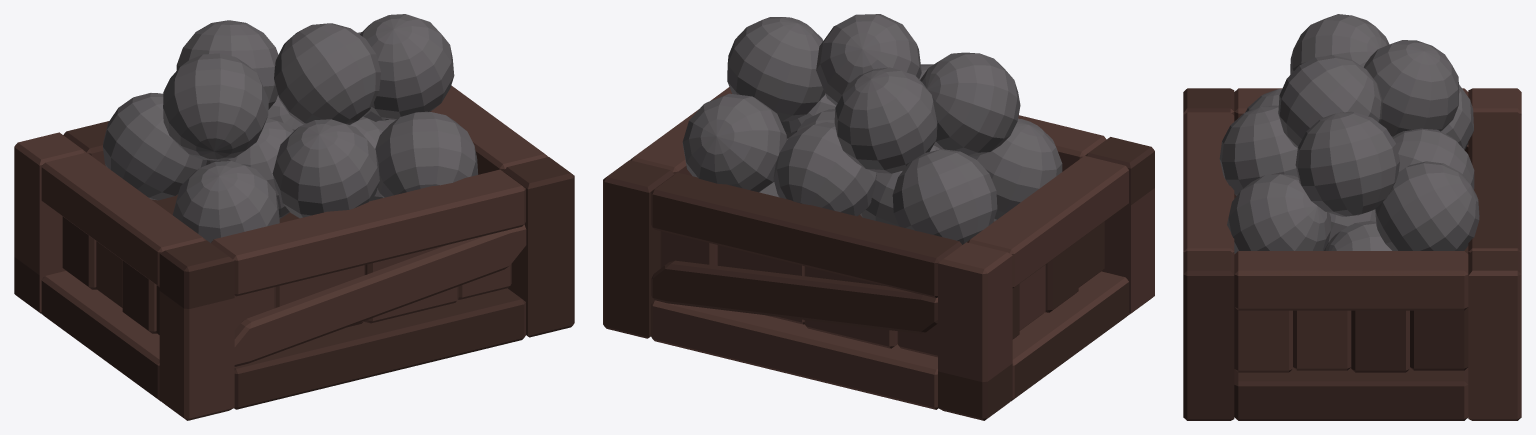
Rendered from BalasDeCanhaoCaixa.fbx.
The picture shows the model from 3 angles, left to right: view 1: azimuth 30°, elevation 25°; view 2: azimuth 150°, elevation 25°; view 3: azimuth 270°, elevation 25°; orthographic projection. The views are drawn at different scales.
Parts seen in each view (by area): view 1: BalasDeCanhao; view 2: BalasDeCanhao; view 3: BalasDeCanhao.
Boxes of the visible parts, box(x1,y1,x2,y2) form: BalasDeCanhao: box(14, 14, 574, 420); BalasDeCanhao: box(603, 14, 1154, 420); BalasDeCanhao: box(1183, 14, 1521, 420).
Size of the model in its own units: 80.61 by 56.68 by 62.08.
